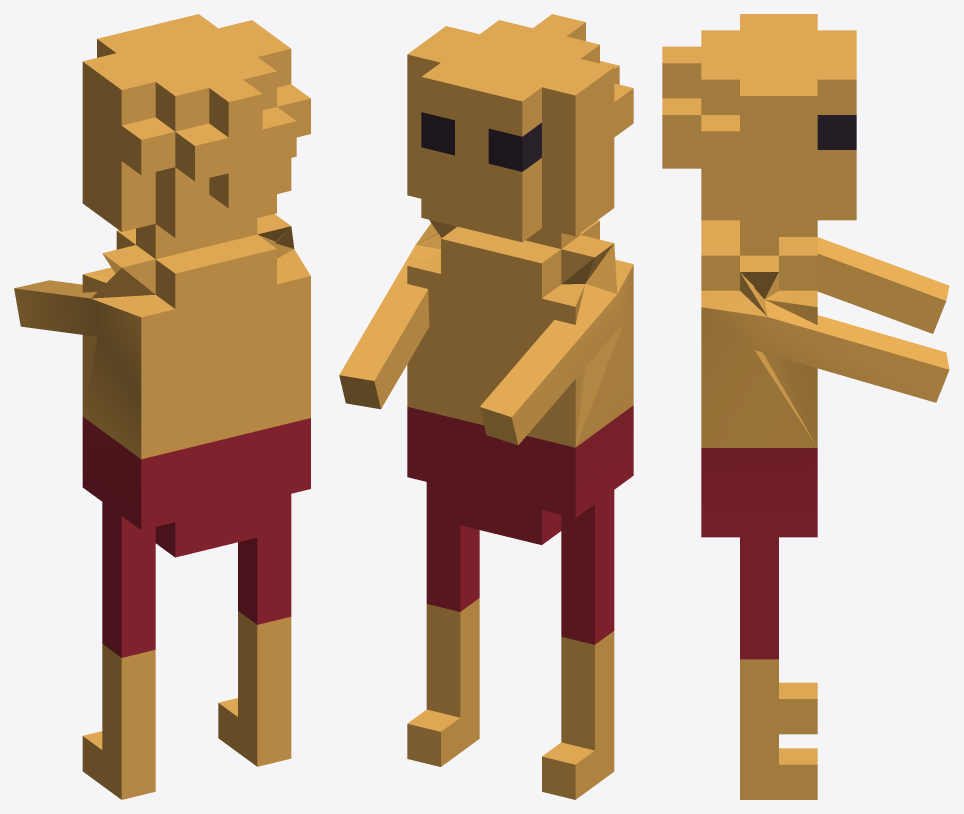
Rendered from human-fishing.fbx.
3 views of the same model, side by side, from view 1: azimuth 30°, elevation 25°; view 2: azimuth 150°, elevation 25°; view 3: azimuth 270°, elevation 25° (orthographic).
Visible parts, largest first — view 1: ObjObject.003; view 2: ObjObject.003; view 3: ObjObject.003.
Boxes of the visible parts, x1,y1,x2,y2 form: ObjObject.003: (14,14,310,799); ObjObject.003: (339,14,633,799); ObjObject.003: (662,14,949,799).
Size of the model in its own units: 59.96 by 200 by 73.93.
1 material, 1 textured.
